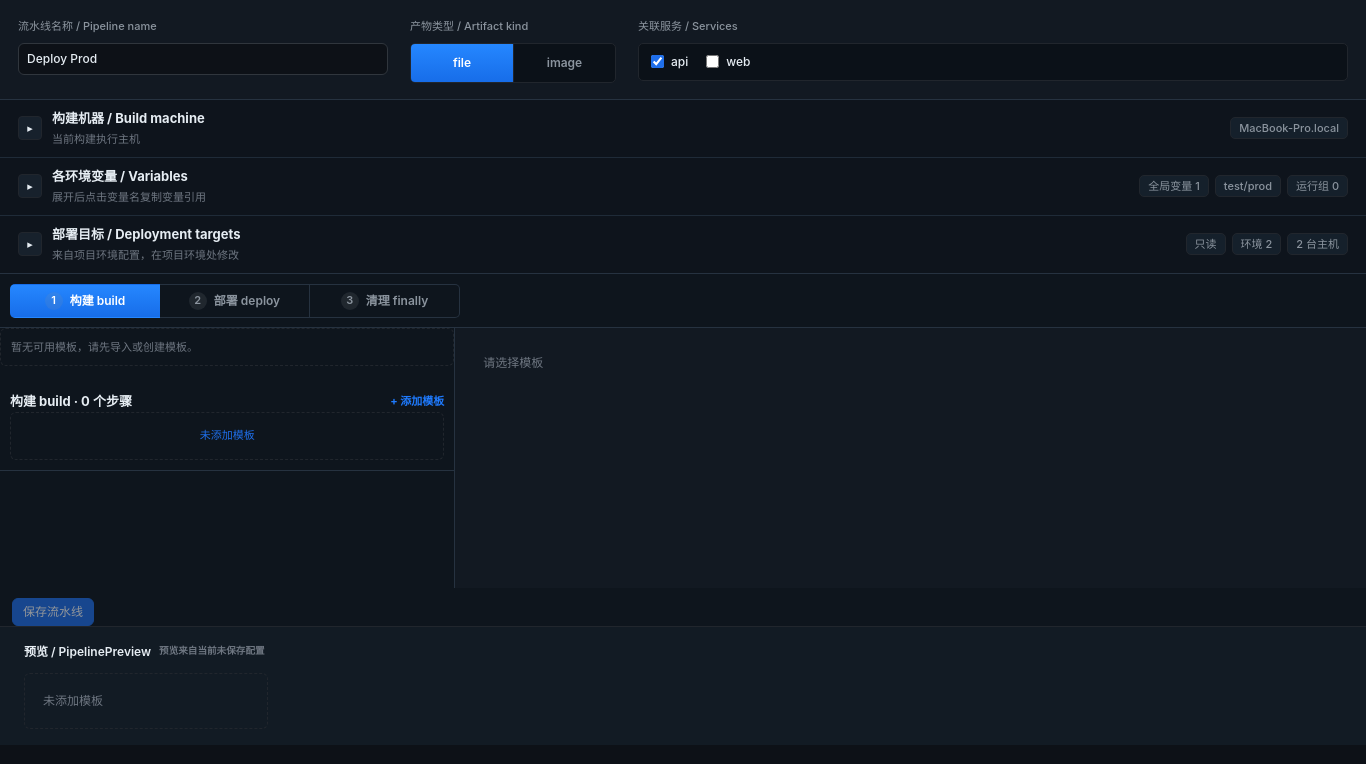
Test: SingleProjectPipelineForm › opens only one configuration panel at a time
Click the button with test id "pipeline-config-toggle-build" at (128, 118), box top-left (0, 100), bottom-right (1365, 156)
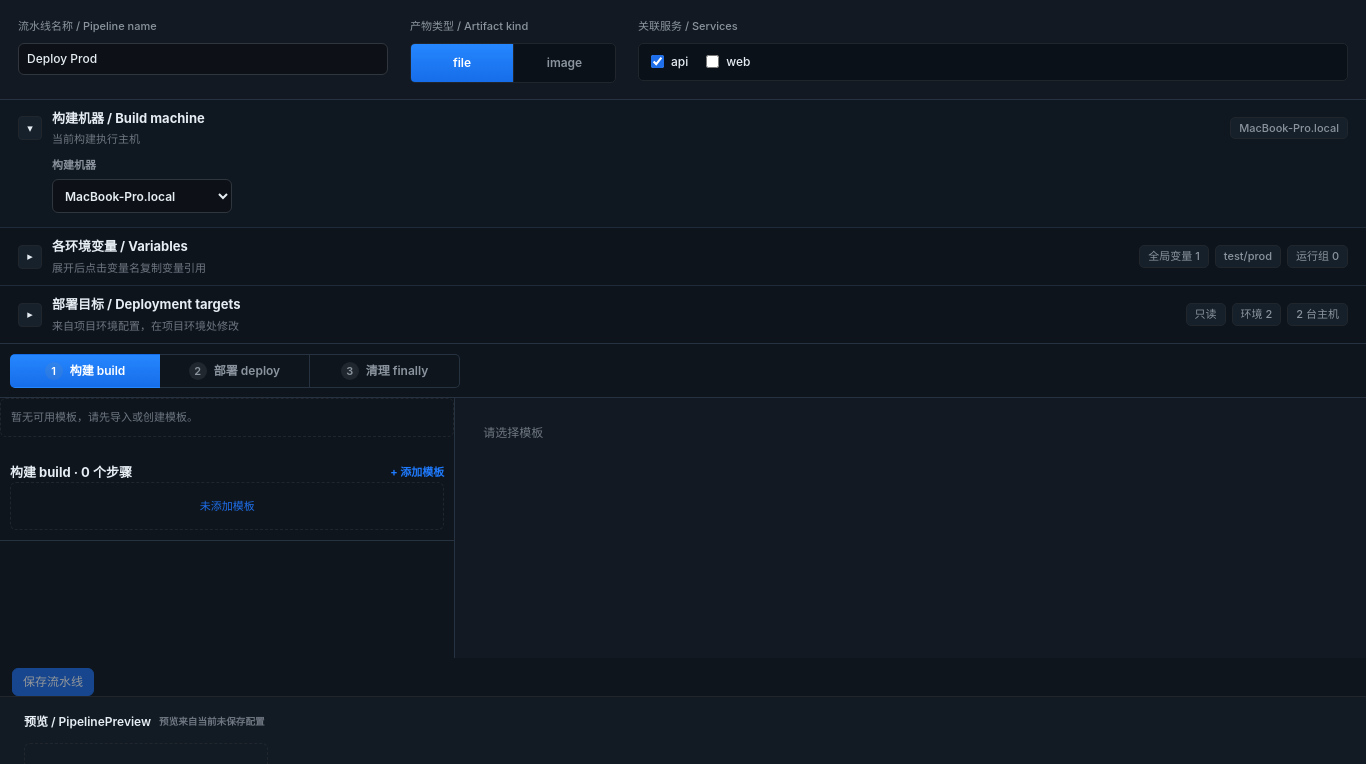
expect the element with test id "pipeline-config-body-build" is shown: met, box top-left (52, 158), bottom-right (232, 213)
Click the button with test id "pipeline-config-toggle-variables" at (120, 246), box top-left (0, 228), bottom-right (1365, 285)
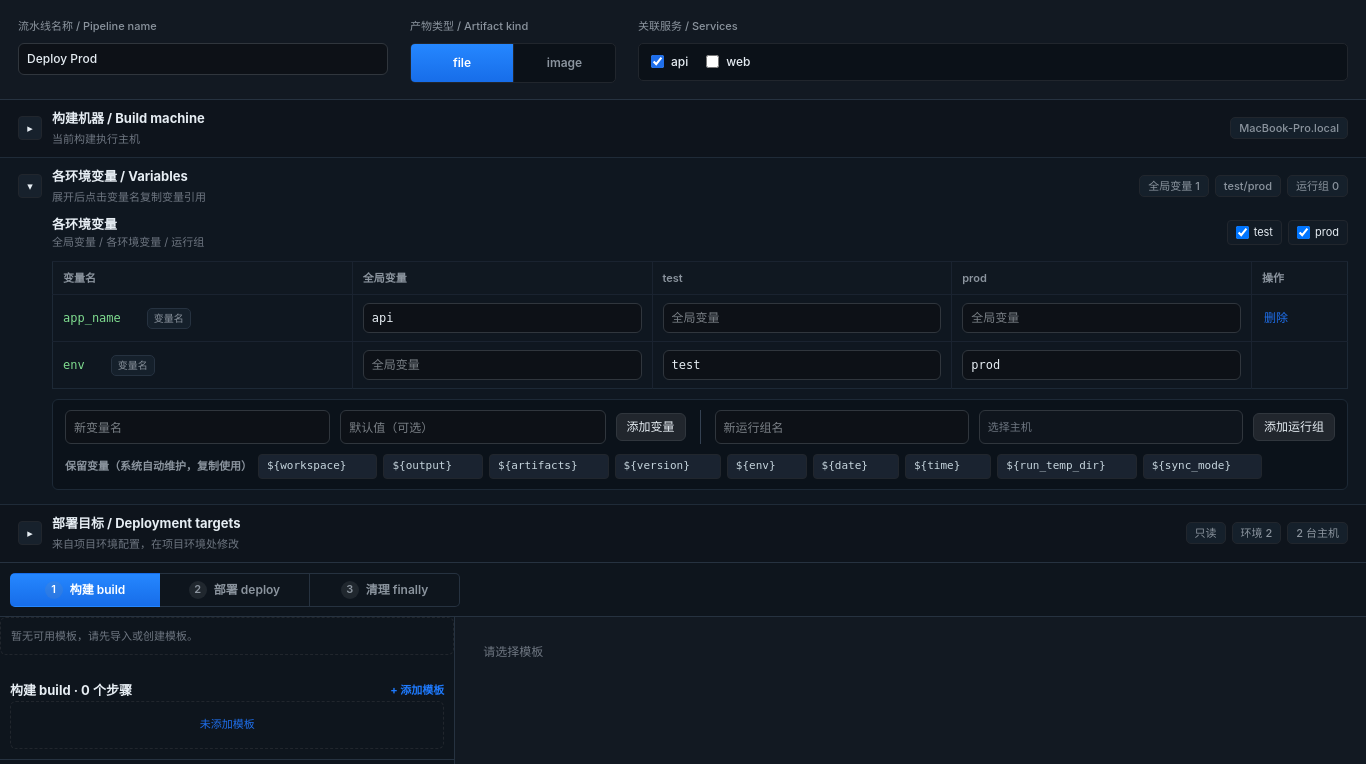
expect the element with test id "pipeline-config-body-variables" is shown: met, box top-left (0, 214), bottom-right (1365, 504)
